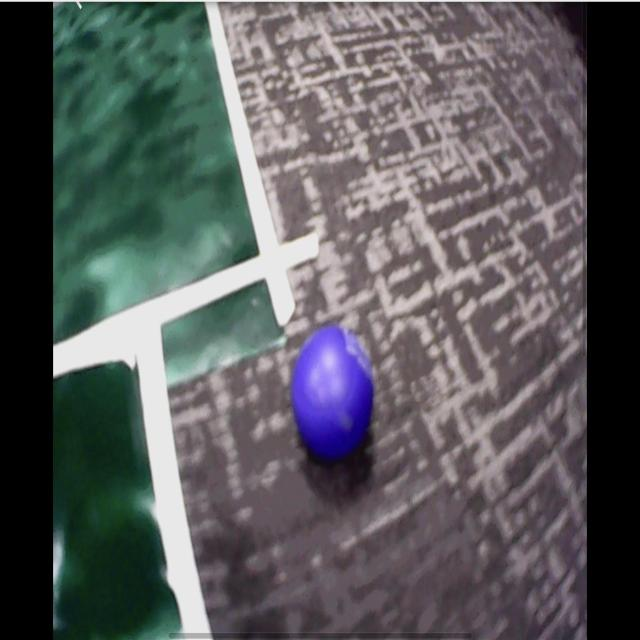ball: (293, 329, 375, 455)
